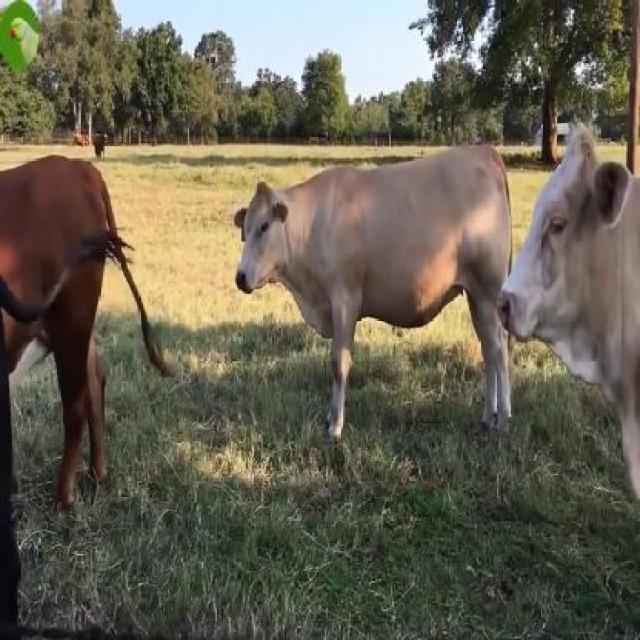Cow: (235, 145, 517, 443), (498, 132, 638, 512)
